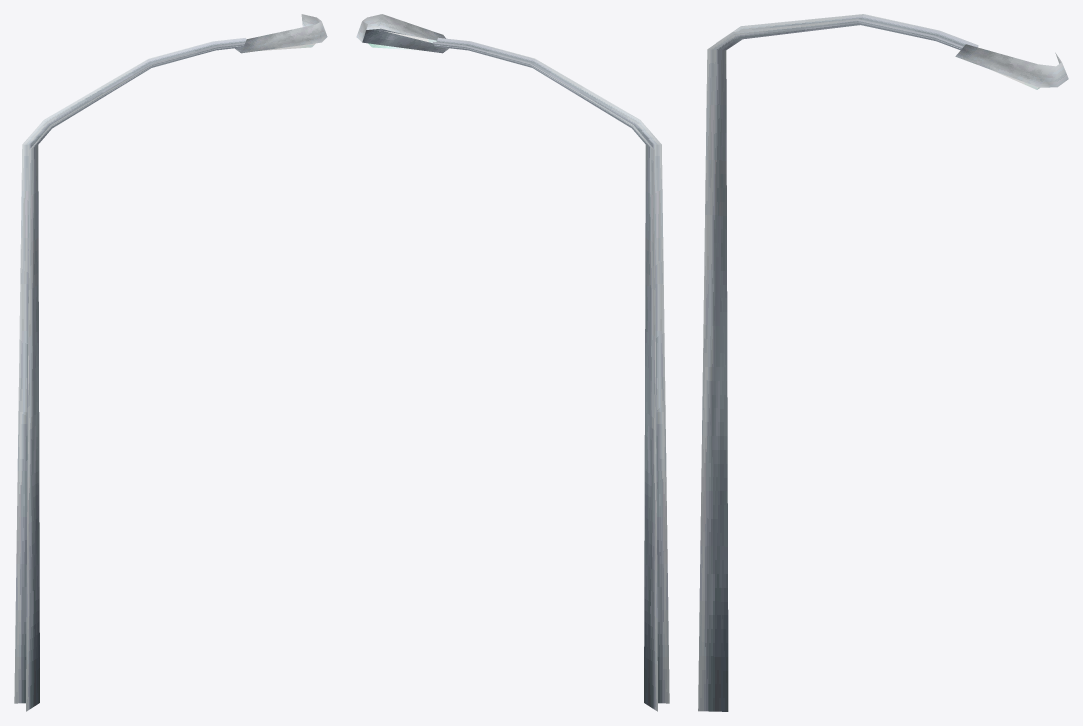
Rendered from stage-flor-p3-406.glb.
The picture shows the model from 3 angles, left to right: view 1: azimuth 30°, elevation 25°; view 2: azimuth 150°, elevation 25°; view 3: azimuth 330°, elevation 25°; orthographic projection. The views are drawn at different scales.
Size of the model in its own units: 4.48 by 8.74 by 0.4868.
2 materials, 2 textured.
